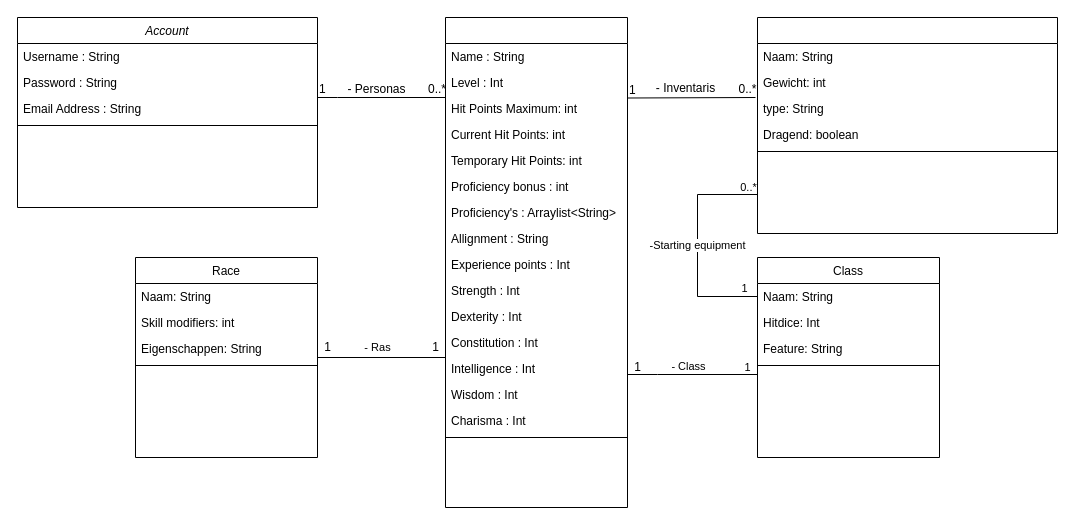
Image size: 1075x525. Some labels were removed from this diagram. Here are the shapes that lost their labels. From the top down, the box of each, then its label:
(756, 16, 1058, 234): Items
(444, 16, 628, 508): Character
